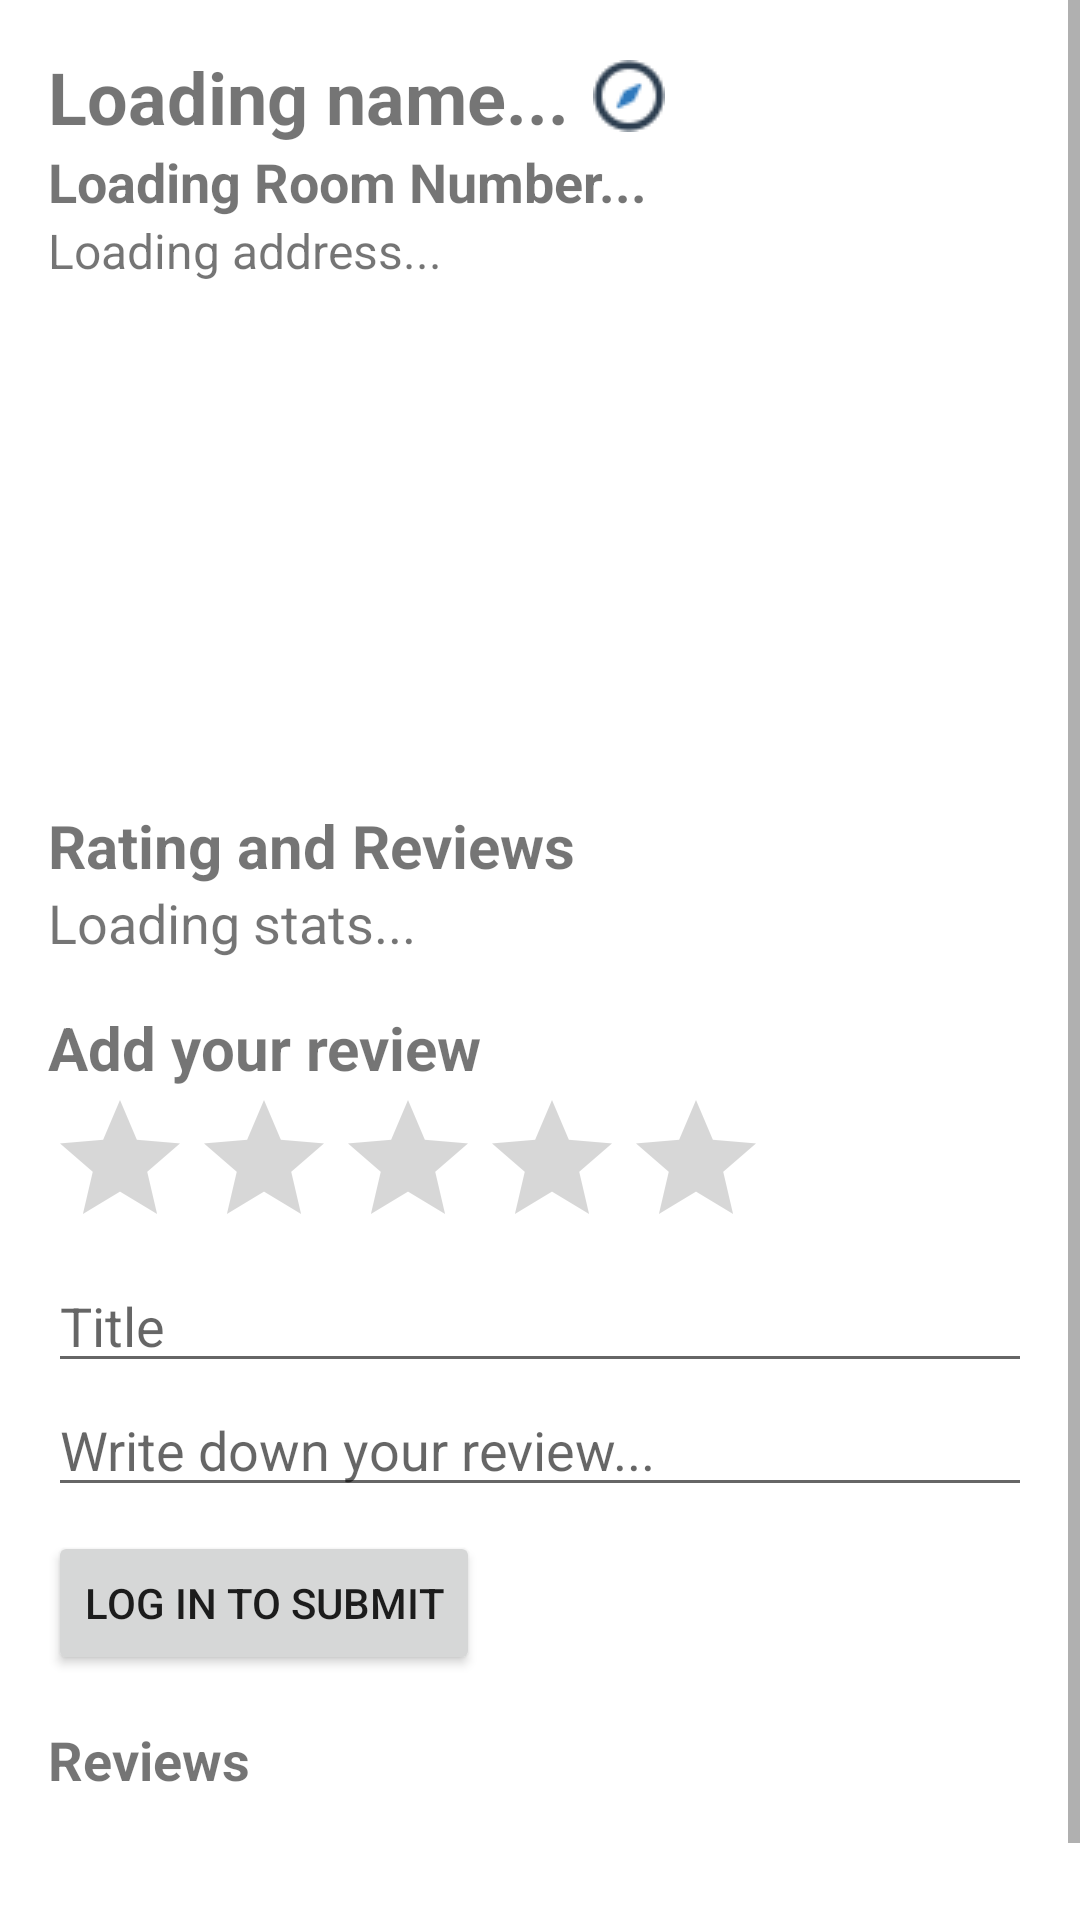

Icon click points for this 1080*1920 phone screenshot, format point (x, y):
direction: point (629, 96)
